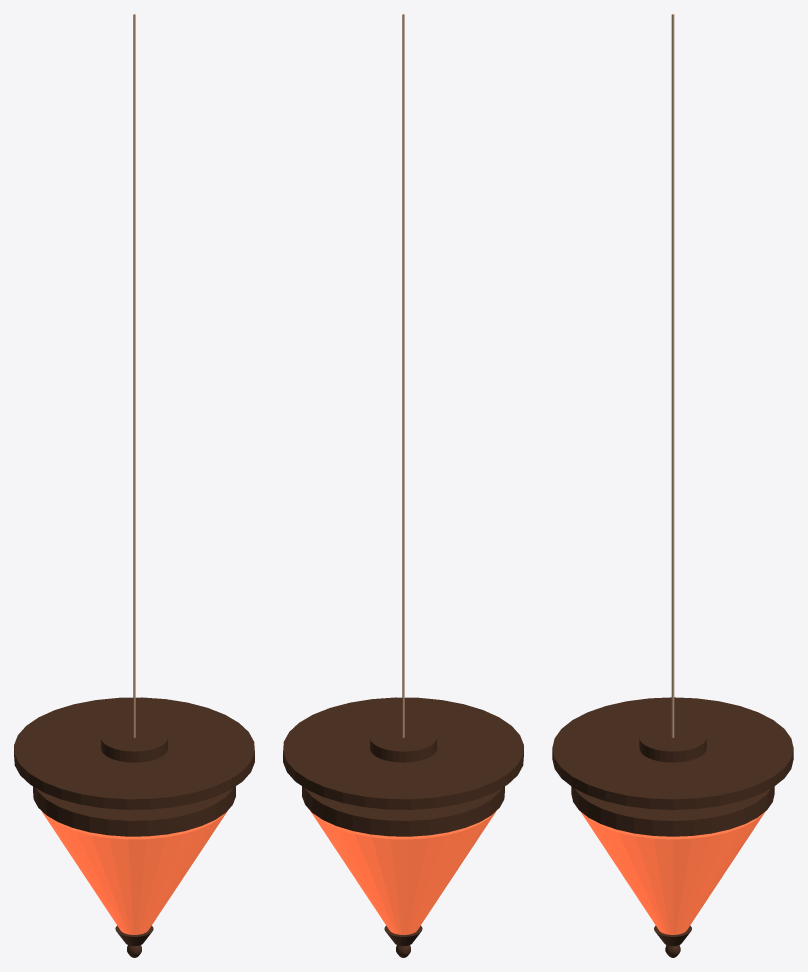
File: Luce 3 Arancio .fbx
3 renders of one model, left to right at view 1: azimuth 30°, elevation 25°; view 2: azimuth 150°, elevation 25°; view 3: azimuth 270°, elevation 25°, orthographic.
Visible parts, largest first — view 1: Cylinder.378; view 2: Cylinder.378; view 3: Cylinder.378.
Part boxes in pixels (left/top/right/bottom): Cylinder.378: left=14, top=14, right=254, bottom=957; Cylinder.378: left=283, top=14, right=523, bottom=957; Cylinder.378: left=552, top=14, right=793, bottom=957.
Size of the model in its own units: 51.04 by 220 by 51.04.
